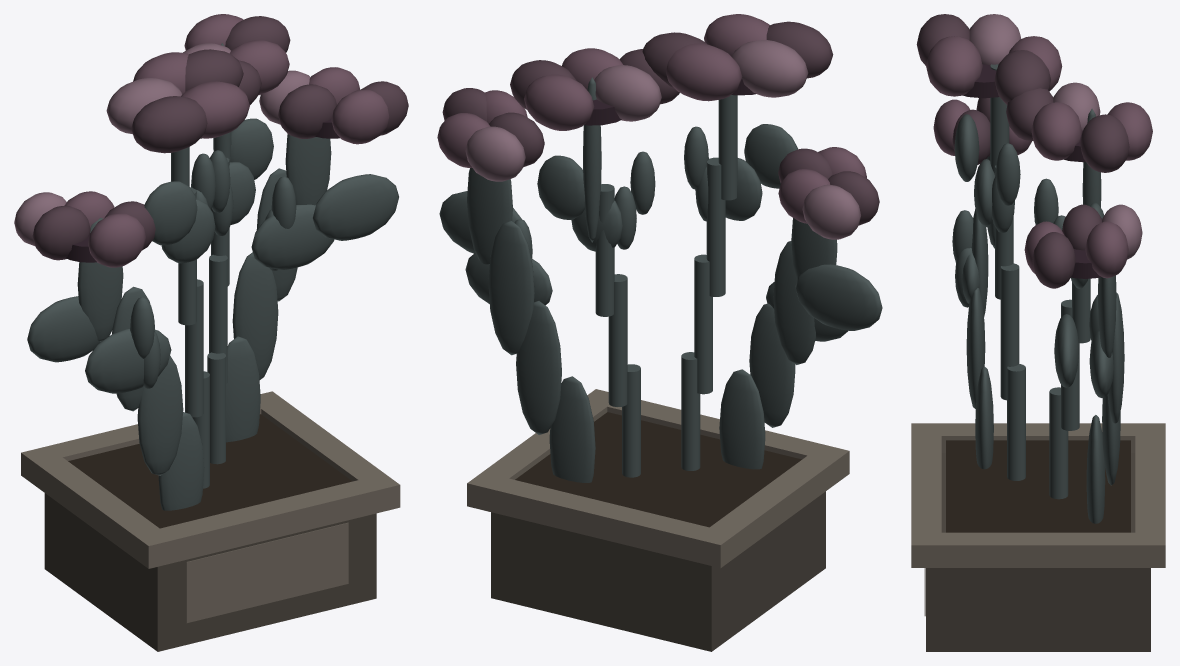
Rendered from CMU3DPottedPlant16.glb.
The picture shows the model from 3 angles, left to right: view 1: azimuth 30°, elevation 25°; view 2: azimuth 150°, elevation 25°; view 3: azimuth 270°, elevation 25°; orthographic projection.
Visible parts, largest first — view 1: mauve cup petal (×19), branch (×14), tapered leaf blade (×13), square pot base, recessed soil, side rim (×2), inset light-facing planter band, front and back rim (×2); view 2: branch (×16), mauve cup petal (×20), square pot base, tapered leaf blade (×10), recessed soil, front and back rim (×2), side rim (×2); view 3: mauve cup petal (×17), branch (×15), square pot base, recessed soil, side rim (×2), tapered leaf blade (×10), front and back rim (×2), dark flower throat (×2).
Part boxes in pixels (x1=…): mauve cup petal (×19): x1=14, y1=14, x2=408, y2=267; branch (×14): x1=77, y1=134, x2=331, y2=510; tapered leaf blade (×13): x1=27, y1=118, x2=398, y2=393; square pot base: x1=44, y1=493, x2=376, y2=651; recessed soil: x1=68, y1=414, x2=352, y2=528; side rim (×2): x1=21, y1=391, x2=400, y2=568; inset light-facing planter band: x1=186, y1=522, x2=348, y2=622; front and back rim (×2): x1=47, y1=408, x2=373, y2=562; branch (×16): x1=467, y1=77, x2=837, y2=482; mauve cup petal (×20): x1=437, y1=14, x2=879, y2=239; square pot base: x1=491, y1=491, x2=825, y2=651; tapered leaf blade (×10): x1=439, y1=124, x2=882, y2=330; recessed soil: x1=515, y1=412, x2=801, y2=527; front and back rim (×2): x1=493, y1=400, x2=822, y2=561; side rim (×2): x1=467, y1=389, x2=849, y2=568; mauve cup petal (×17): x1=916, y1=14, x2=1152, y2=288; branch (×15): x1=966, y1=64, x2=1124, y2=523; square pot base: x1=926, y1=453, x2=1150, y2=651; recessed soil: x1=946, y1=440, x2=1130, y2=532; side rim (×2): x1=911, y1=423, x2=1165, y2=567; tapered leaf blade (×10): x1=952, y1=114, x2=1113, y2=397; front and back rim (×2): x1=911, y1=436, x2=1165, y2=532; dark flower throat (×2): x1=963, y1=64, x2=1101, y2=278.
Size of the model in its own units: 0.673 by 0.854 by 0.3661.
